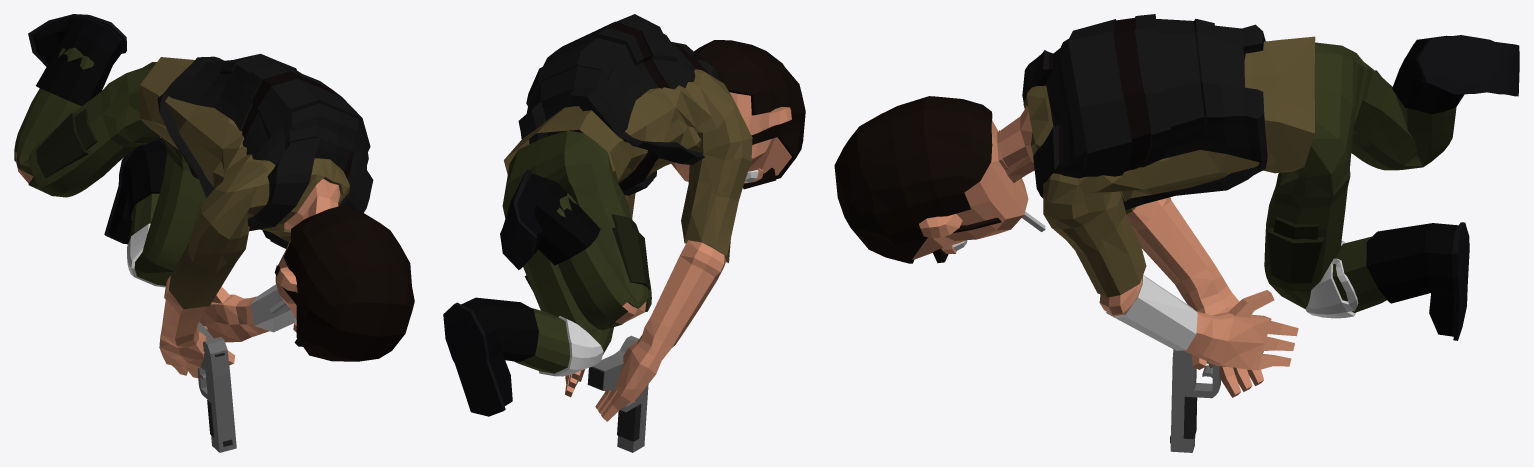
File: frame_0008.obj
3 views of the same model, side by side, from view 1: azimuth 30°, elevation 25°; view 2: azimuth 150°, elevation 25°; view 3: azimuth 270°, elevation 25° (orthographic). The views are drawn at different scales.
Parts seen in each view (by area): view 1: Body, Gun; view 2: Body, Gun; view 3: Body, Gun.
Part boxes in pixels (bbox=[...]): Body: bbox=[14, 14, 414, 378]; Gun: bbox=[197, 321, 236, 452]; Body: bbox=[443, 14, 805, 421]; Gun: bbox=[587, 335, 648, 452]; Body: bbox=[834, 14, 1519, 397]; Gun: bbox=[1170, 349, 1263, 452].
Size of the model in its own units: 1.41 by 2.42 by 3.37.
